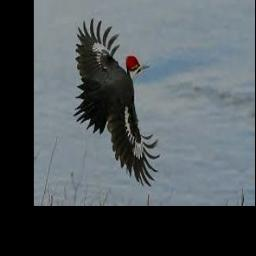Woodpecker: (74, 17, 161, 186)
